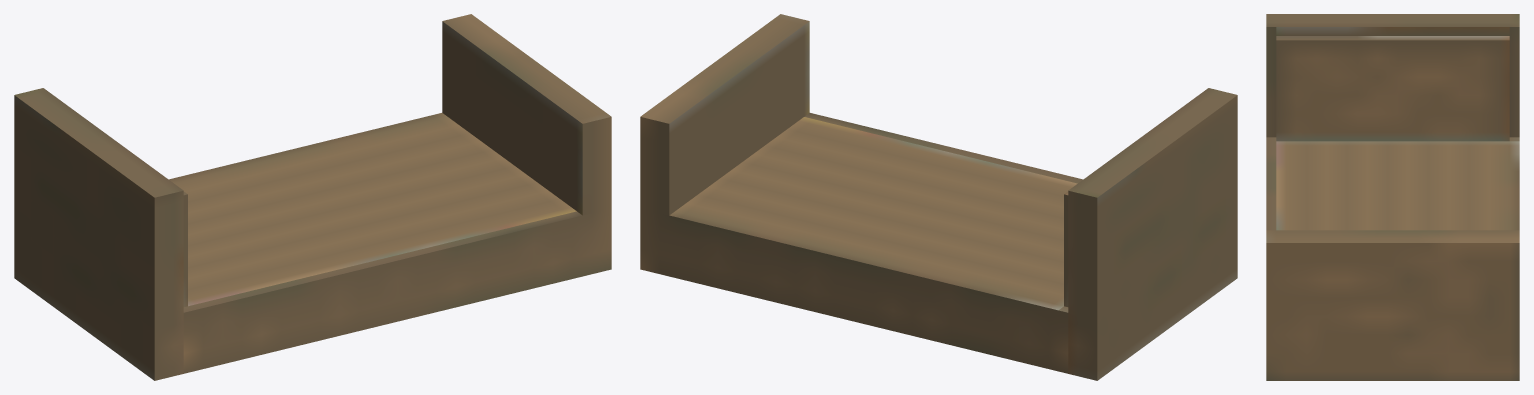
File: BedFrameBrown_00.fbx
The picture shows the model from 3 angles, left to right: view 1: azimuth 30°, elevation 25°; view 2: azimuth 150°, elevation 25°; view 3: azimuth 270°, elevation 25°; orthographic projection. The views are drawn at different scales.
Parts seen in each view (by area): view 1: BedFrameBrown_00; view 2: BedFrameBrown_00; view 3: BedFrameBrown_00.
Part boxes in pixels (bbox=[...]): BedFrameBrown_00: bbox=[14, 14, 611, 380]; BedFrameBrown_00: bbox=[640, 14, 1237, 380]; BedFrameBrown_00: bbox=[1266, 14, 1519, 380].
Bounding box in the file's own units: 235 × 125 × 90.
Materials: 1 (1 with a texture image).
